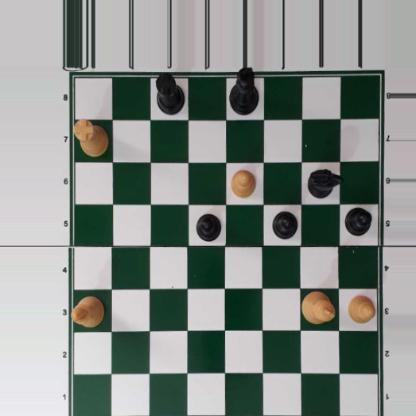black-king: (227, 67, 259, 117)
black-knight: (306, 168, 344, 199)
black-pawn: (344, 206, 371, 236), (195, 213, 222, 242), (272, 209, 297, 239)
black-rook: (155, 72, 185, 116)
white-bishop: (70, 295, 105, 331)
white-king: (301, 289, 336, 325)
white-pawn: (346, 293, 375, 324), (229, 167, 256, 198)
white-rook: (72, 120, 109, 158)
